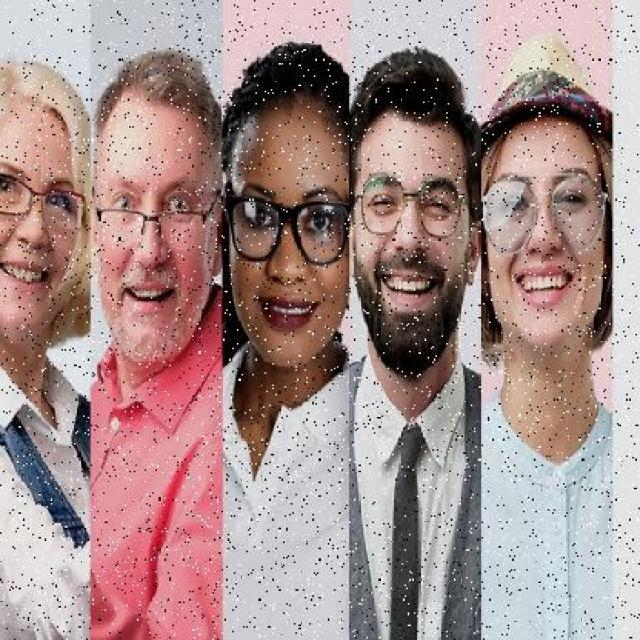glasses: (482, 168, 610, 262), (228, 185, 352, 270), (355, 170, 468, 244), (91, 196, 211, 258), (1, 157, 87, 240)
